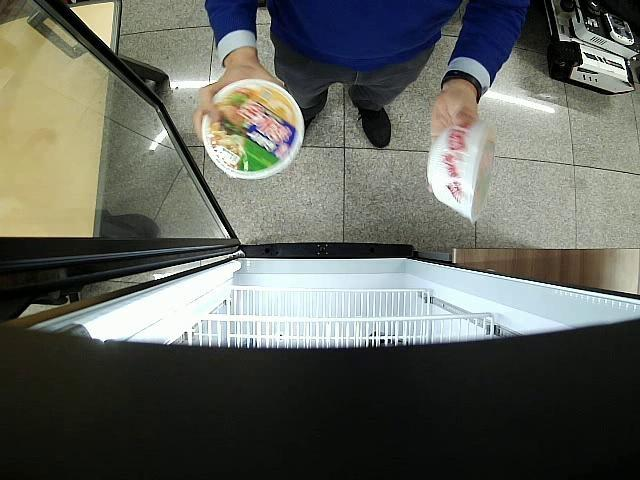09_yukGaeJang: (202, 79, 304, 179), (426, 120, 496, 220)
